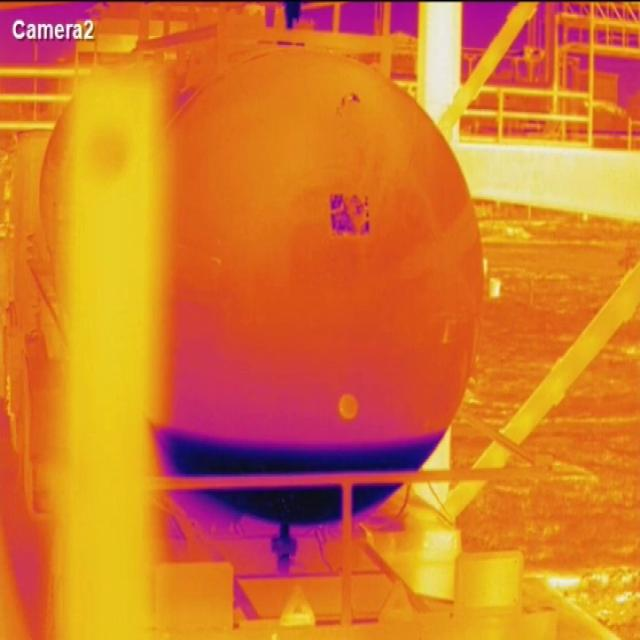tank: (150, 45, 484, 528)
